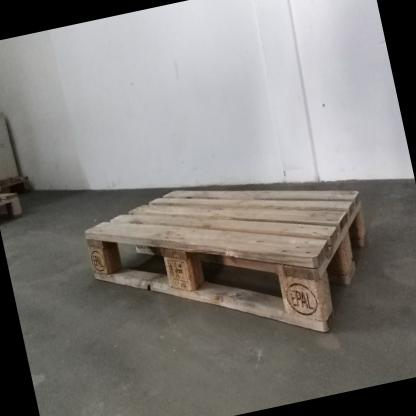BoxFace: (81, 184, 370, 340)
